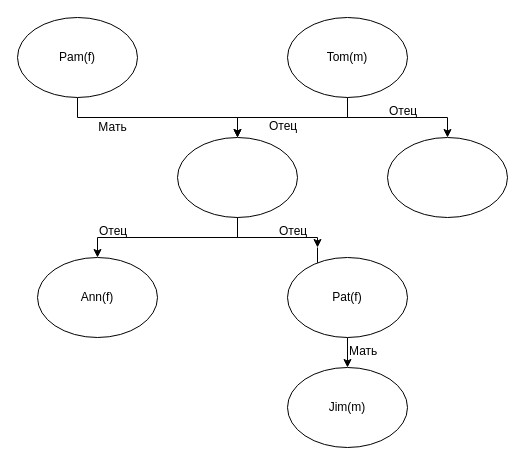
Image size: 525x465. Some labels were removed from this diagram. Here are the shapes that lost their labels. From the top down, the box of each, then its label:
(176, 136, 298, 218): Bob(m)
(386, 136, 508, 218): Liz(f)
